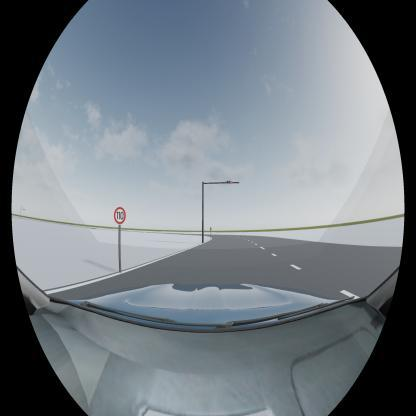Red Light: (226, 180, 232, 184)
